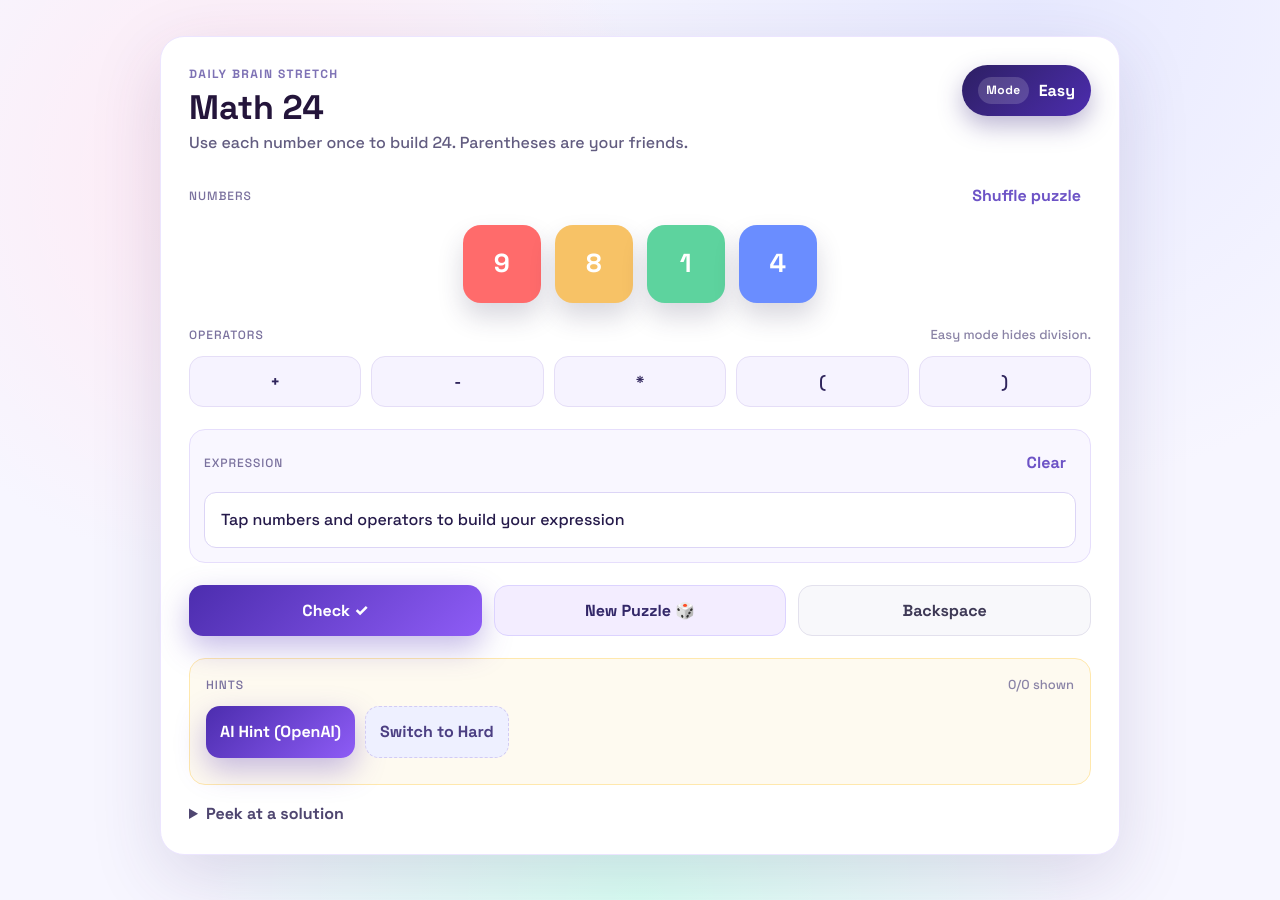
Math24Game › Solution Checking › shows error when checking empty expression
The image size is (1280, 900).
Click the button "Check ✓": (335, 610) [189,585,482,636]
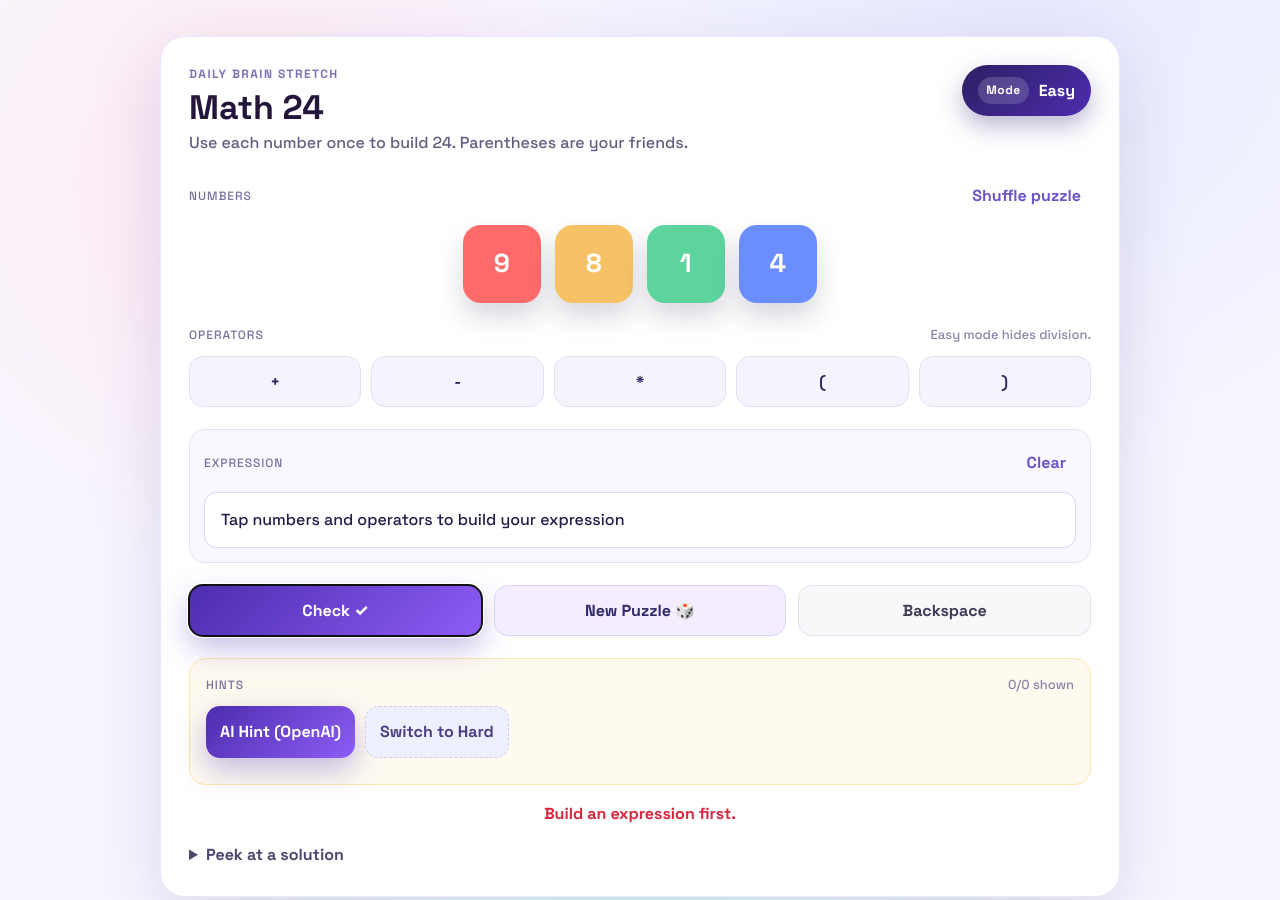
Now the text "Build an expression first." is shown, box [544,803,736,824]
